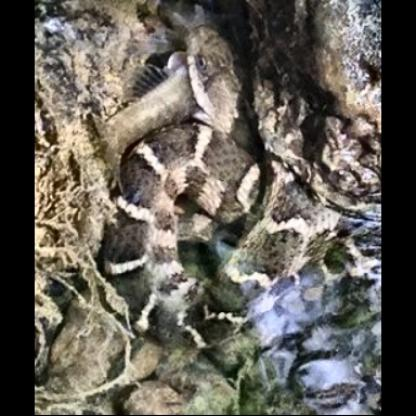Snake: (57, 6, 348, 402)
